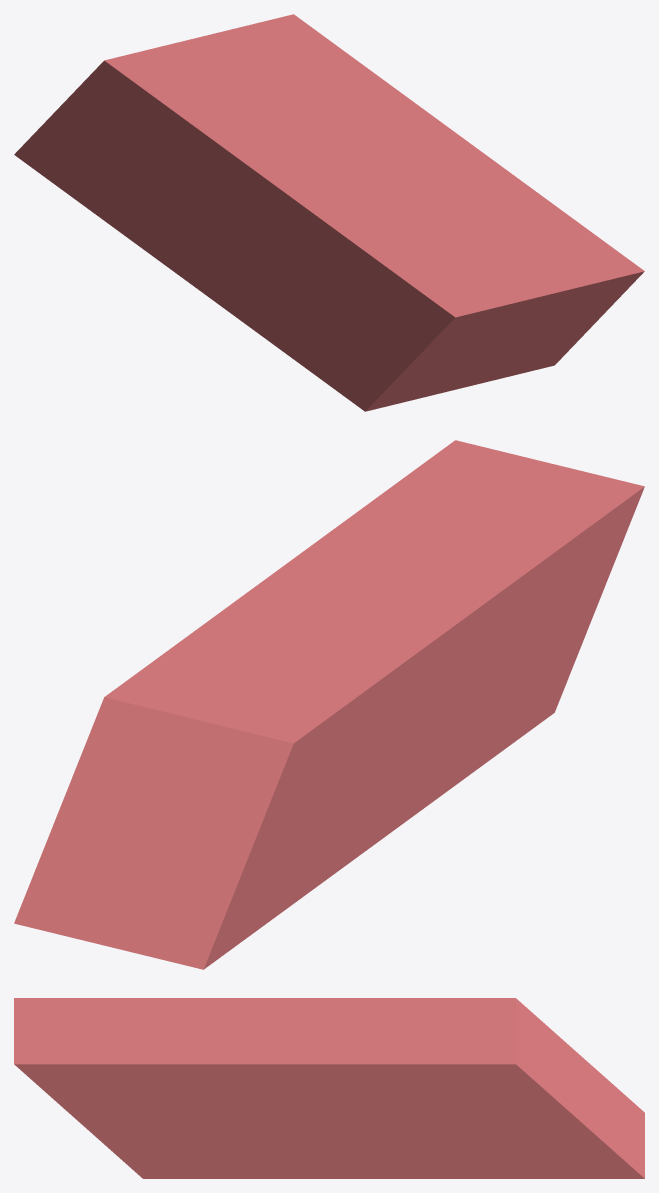
The model's file is Rubber.fbx.
3 views of the same model, one above another, from view 1: azimuth 30°, elevation 25°; view 2: azimuth 150°, elevation 25°; view 3: azimuth 270°, elevation 25° (orthographic). The views are drawn at different scales.
Visible parts, largest first — view 1: Cube; view 2: Cube; view 3: Cube.
Boxes of the visible parts, x1=… form: Cube: x1=14, y1=14, x2=644, y2=411; Cube: x1=14, y1=440, x2=644, y2=969; Cube: x1=14, y1=998, x2=644, y2=1178.
Size of the model in its own units: 25.91 by 20.94 by 104.
